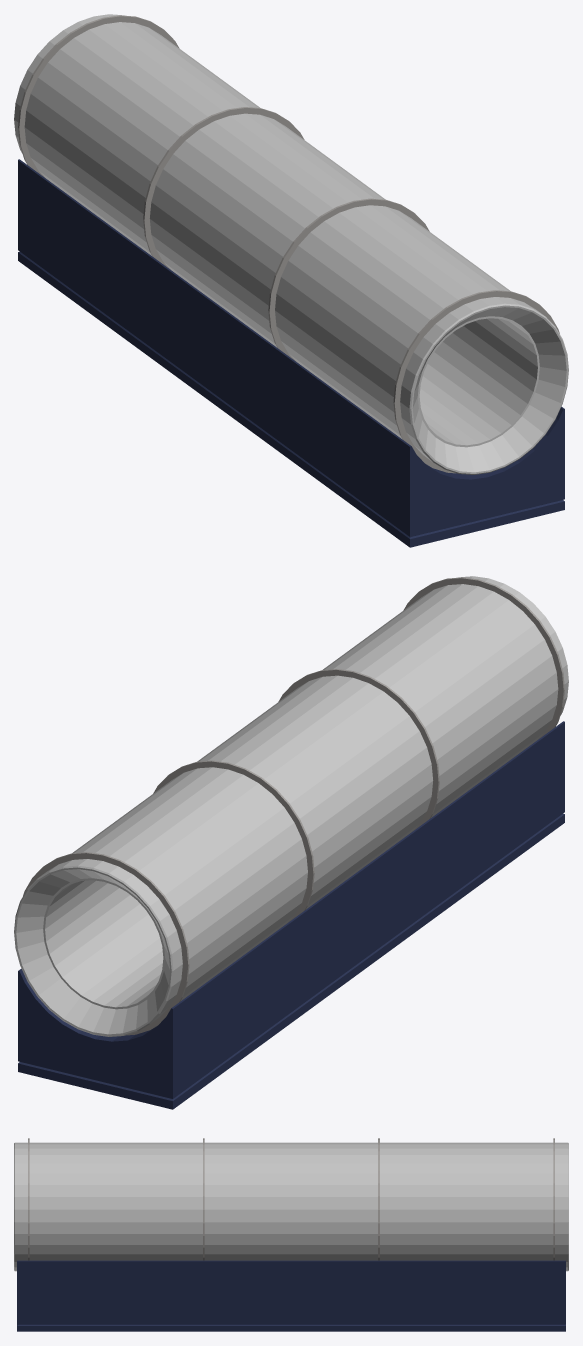
3 views of the same model, one above another, from view 1: azimuth 30°, elevation 25°; view 2: azimuth 150°, elevation 25°; view 3: azimuth 270°, elevation 25° (orthographic). The views are drawn at different scales.
Parts seen in each view (by area): view 1: Cylinder, Cube, Цилиндр.004, Цилиндр.001, Цилиндр.003, Цилиндр.002; view 2: Cylinder, Cube, Цилиндр.002, Цилиндр.003, Цилиндр.001, Цилиндр.004; view 3: Cylinder, Cube.
Boxes of the visible parts, x1,y1,x2,y2 form: Cylinder: (14,14,568,474); Cube: (18,159,564,547); Цилиндр.004: (393,290,559,473); Цилиндр.001: (268,198,429,361); Цилиндр.003: (143,107,304,269); Цилиндр.002: (18,15,179,177); Cylinder: (14,576,568,1036); Cube: (18,721,564,1109); Цилиндр.002: (23,852,189,1035); Цилиндр.003: (153,760,314,923); Цилиндр.001: (278,669,439,831); Цилиндр.004: (403,577,564,739); Cylinder: (14,1142,568,1271); Cube: (17,1260,565,1331).
Size of what is drawn, in the model's own units: 2.51 by 3.24 by 10.14.
